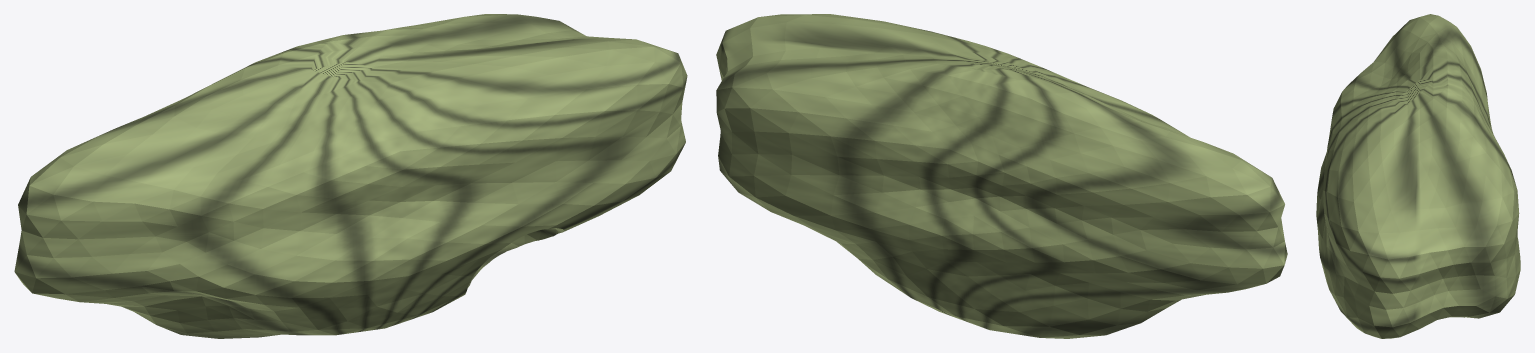
3 renders of one model, left to right at view 1: azimuth 30°, elevation 25°; view 2: azimuth 150°, elevation 25°; view 3: azimuth 270°, elevation 25°, orthographic. The views are drawn at different scales.
Visible parts, largest first — view 1: geometry_0; view 2: geometry_0; view 3: geometry_0.
Boxes of the visible parts, x1,y1,x2,y2 form: geometry_0: (14,14,687,338); geometry_0: (716,14,1287,338); geometry_0: (1316,14,1520,338).
Size of the model in its own units: 3.06 by 1.24 by 1.04.
1 material, 1 textured.
